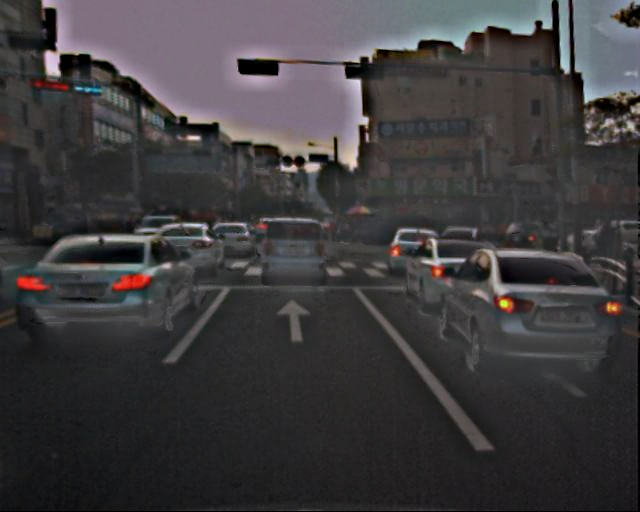person: (586, 215, 617, 291)
